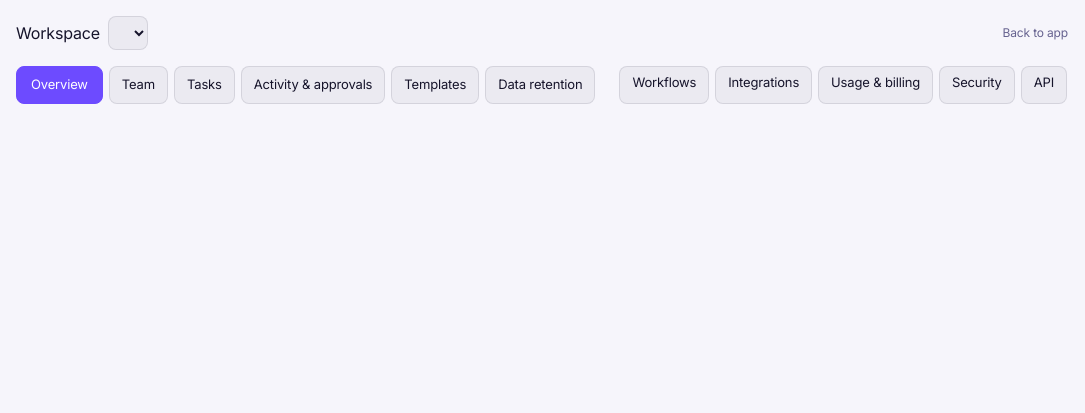
Test case: G team: members get a read-only team view (no role changes, no invites) — the server still enforces it
Click the tab "Team" at (138, 85), box [109, 66, 168, 104]
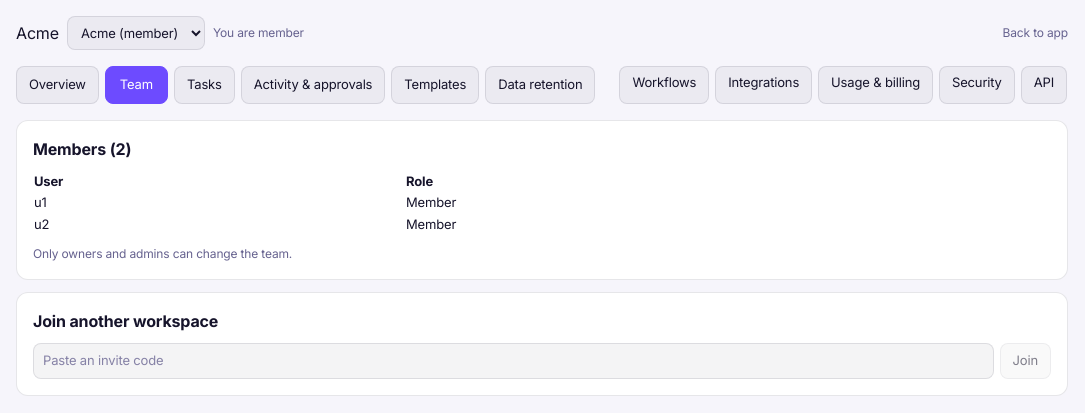
Now the row with test id "member-u2" shows "Member", box [406, 216, 456, 232]
Now the text "Only owners and admins can change the team." is shown, box [33, 246, 292, 261]
